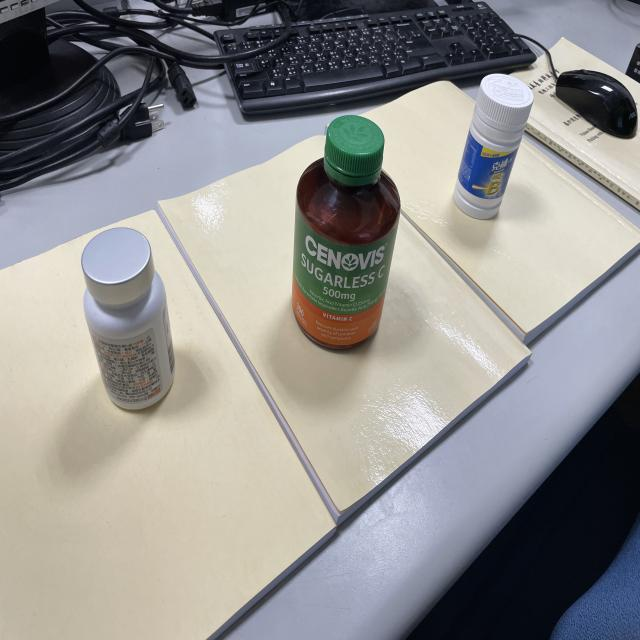Medicine-Jar: (290, 109, 400, 353), (76, 236, 183, 408), (458, 68, 532, 226)
